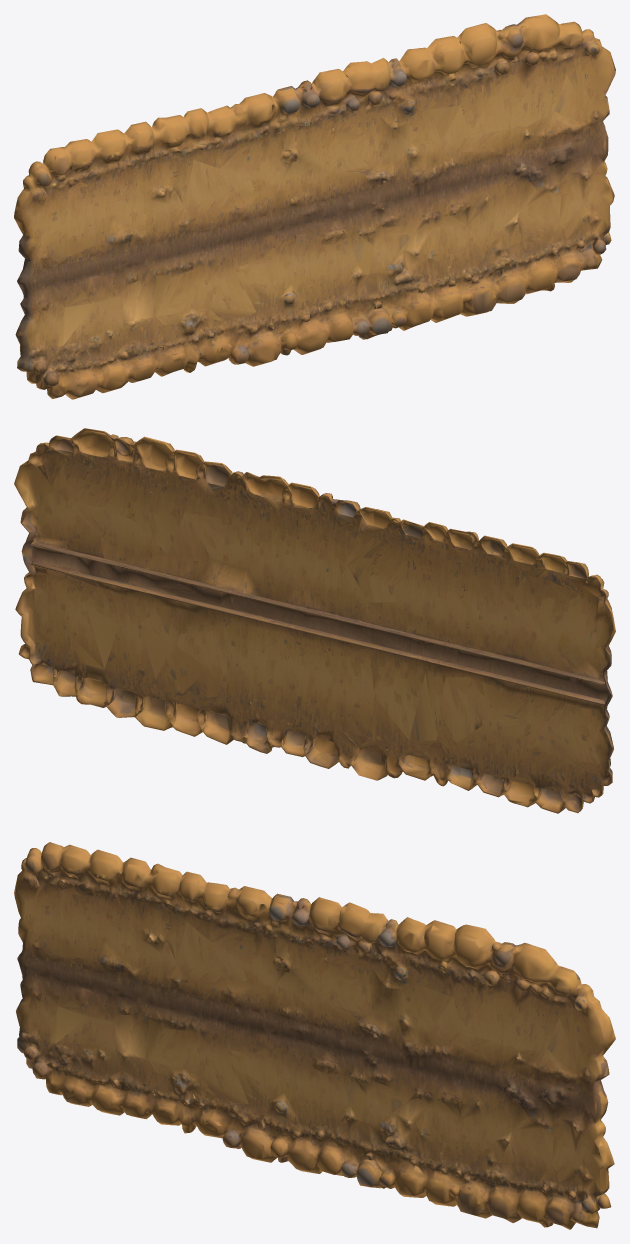
Rendered from selskaya_doroga.glb.
3 views of the same model, one above another, from view 1: azimuth 30°, elevation 25°; view 2: azimuth 150°, elevation 25°; view 3: azimuth 330°, elevation 25° (orthographic).
Visible parts, largest first — view 1: selskaya_doroga; view 2: selskaya_doroga; view 3: selskaya_doroga.
Part boxes in pixels (x1,y1,x2,y2): selskaya_doroga: [14, 14, 615, 399]; selskaya_doroga: [14, 428, 615, 813]; selskaya_doroga: [14, 842, 615, 1229].
Size of the model in its own units: 13.04 by 6 by 0.3418.
1 material, 1 textured.
